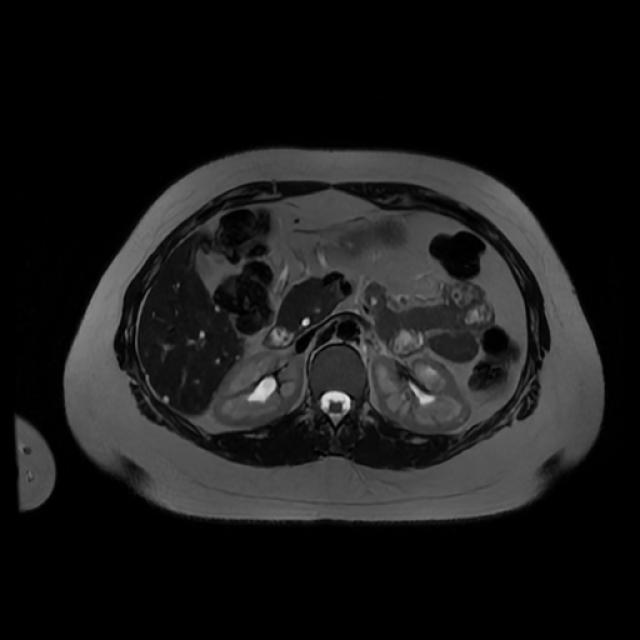sag: (215, 351, 305, 427)
sol: (374, 356, 471, 430)
